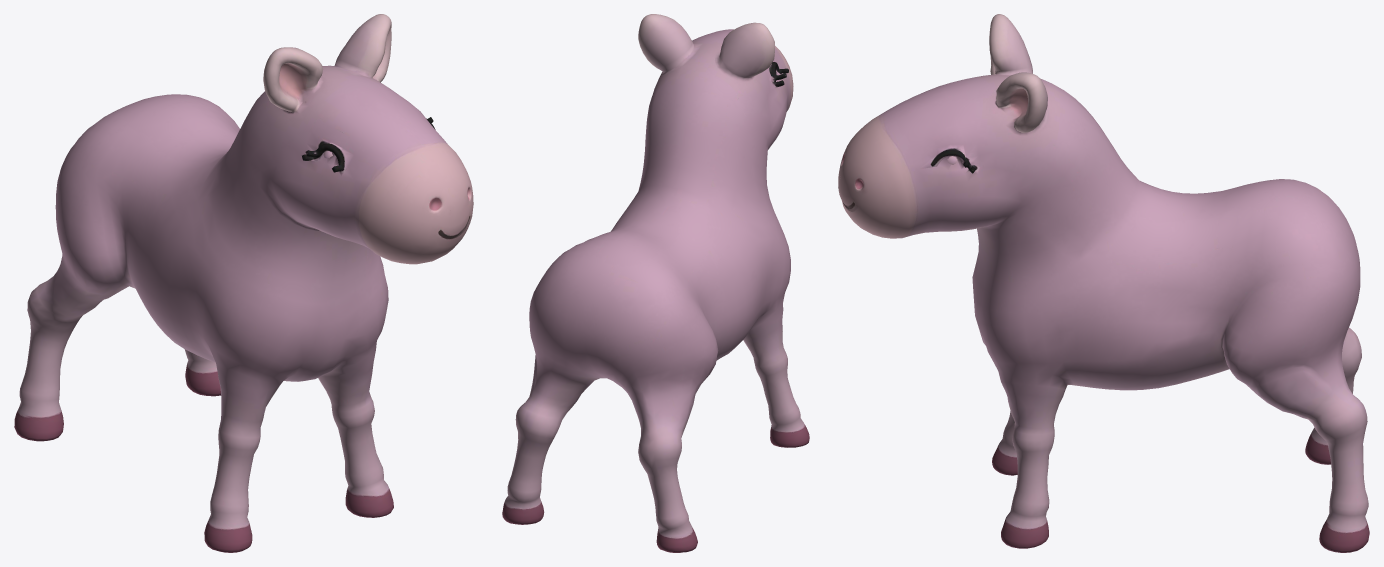
Rendered from Pink Horse.fbx.
3 renders of one model, left to right at view 1: azimuth 30°, elevation 25°; view 2: azimuth 150°, elevation 25°; view 3: azimuth 270°, elevation 25°, orthographic. The views are drawn at different scales.
Parts seen in each view (by area): view 1: Pink_Cartoon_Horse_Toy; view 2: Pink_Cartoon_Horse_Toy; view 3: Pink_Cartoon_Horse_Toy.
Part boxes in pixels (x1,y1,x2,y2): Pink_Cartoon_Horse_Toy: (14,14,473,552); Pink_Cartoon_Horse_Toy: (502,14,809,552); Pink_Cartoon_Horse_Toy: (838,14,1369,552).
Size of the model in its own units: 0.8607 by 1.8 by 1.81.
1 material, 1 textured.
